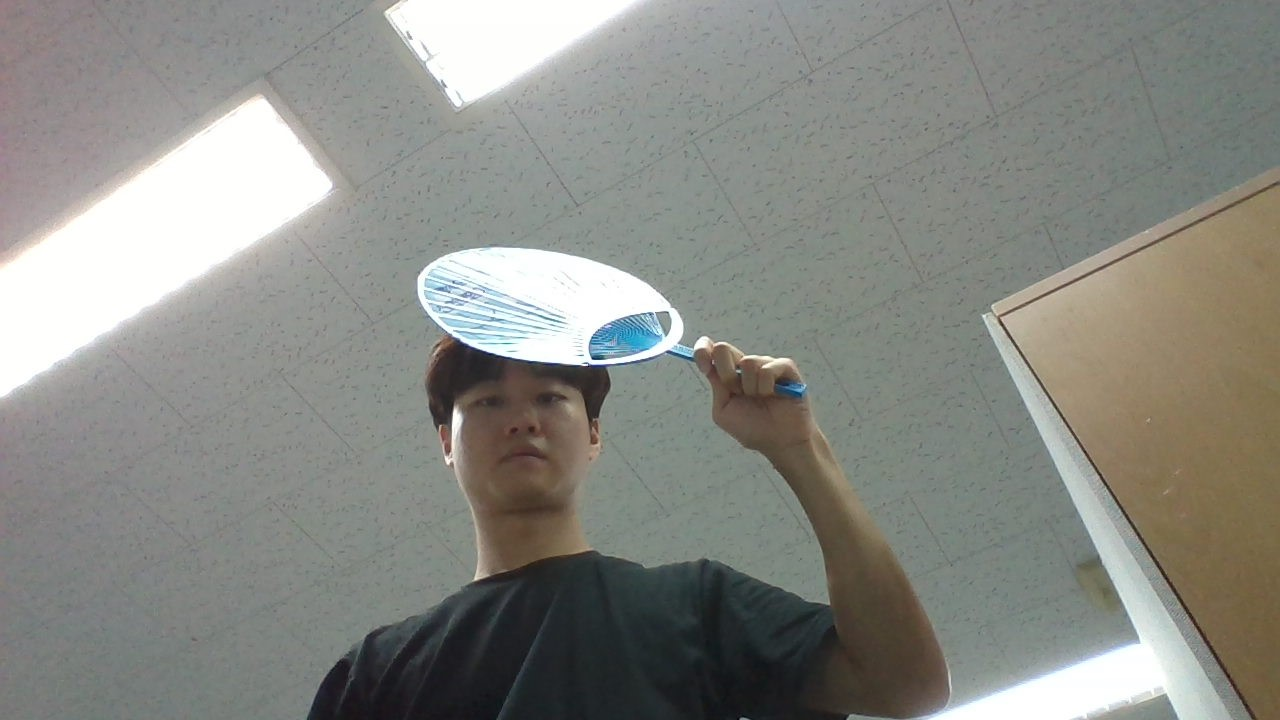Non-Helmet: (388, 297, 636, 526)
